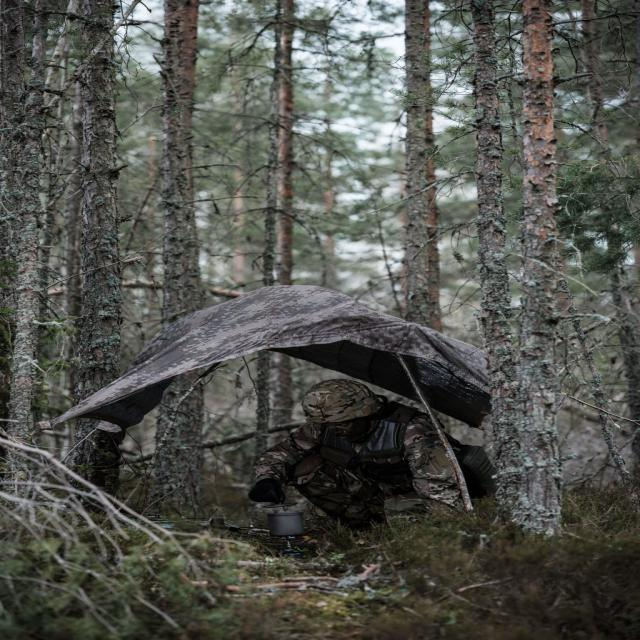Human: (245, 377, 501, 556)
